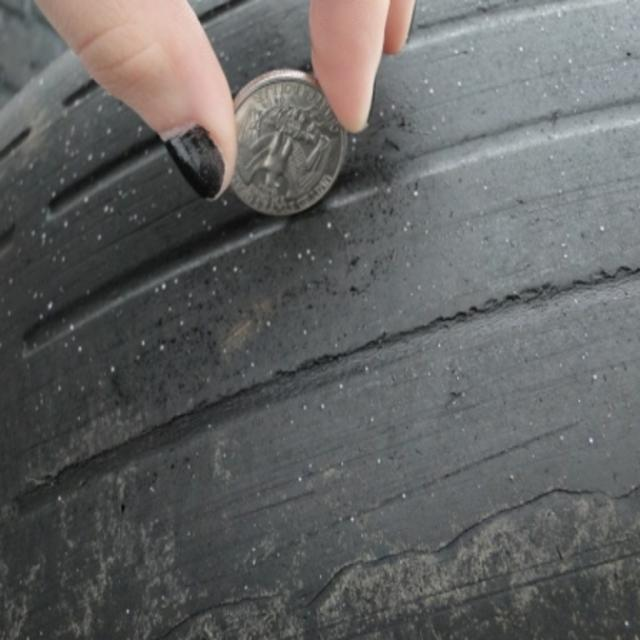Coin: (226, 69, 354, 219)
